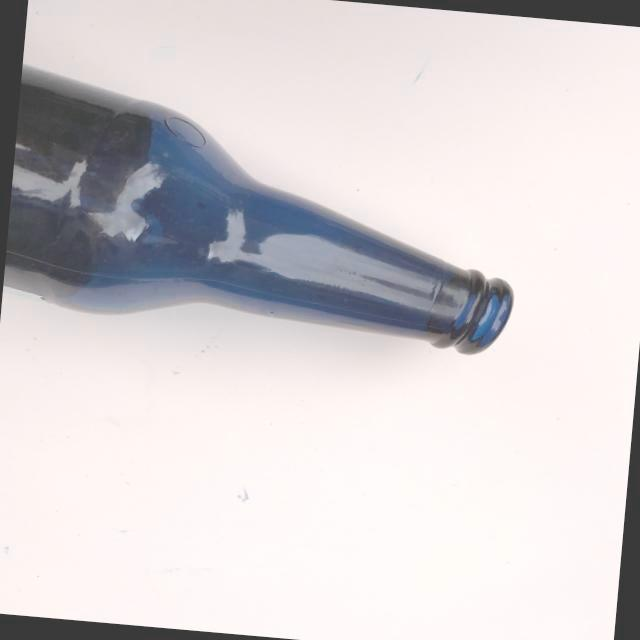glass: (0, 58, 536, 361)
